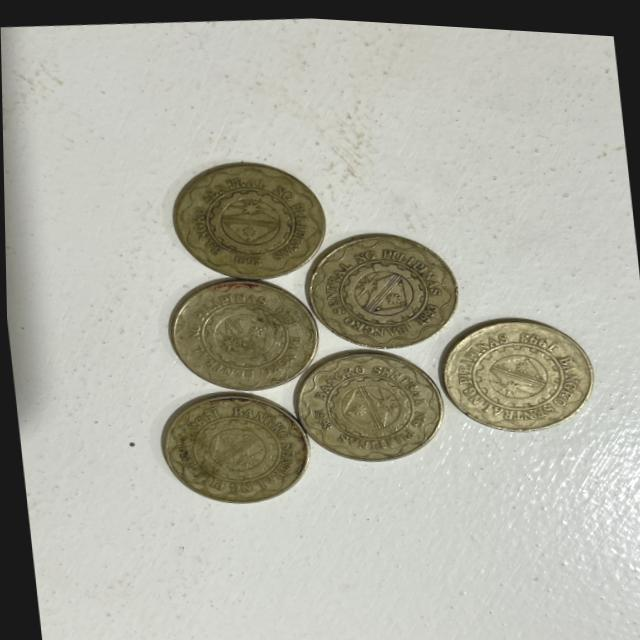5_Old_Back: (153, 148, 335, 290), (151, 263, 326, 404), (296, 216, 469, 352), (436, 302, 603, 432), (155, 376, 310, 514), (295, 336, 440, 466)
